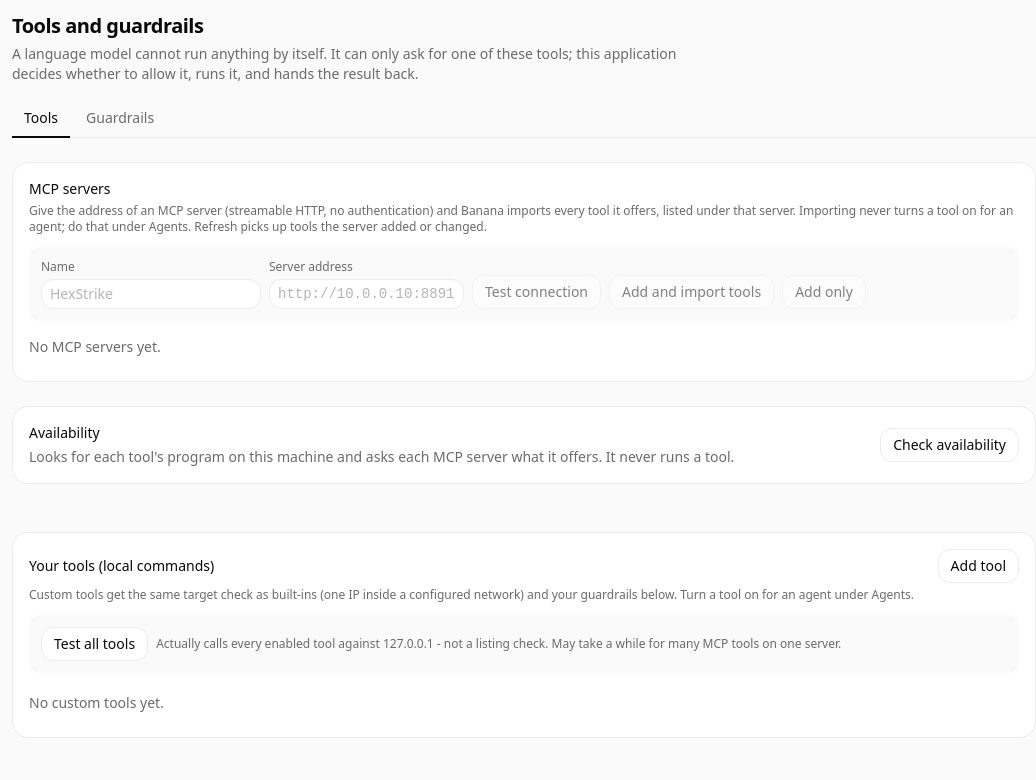
Test case: AiToolsPage tabs › keeps MCP servers and tools on the Tools tab and the guardrails on their own tab
The image size is (1036, 780).
Check: the text "MCP servers" is shown, box [29,179,110,198]
Check: the text "Single IP only" is not shown
Click the tab "Guardrails" at (120, 119), box [74,100,166,138]
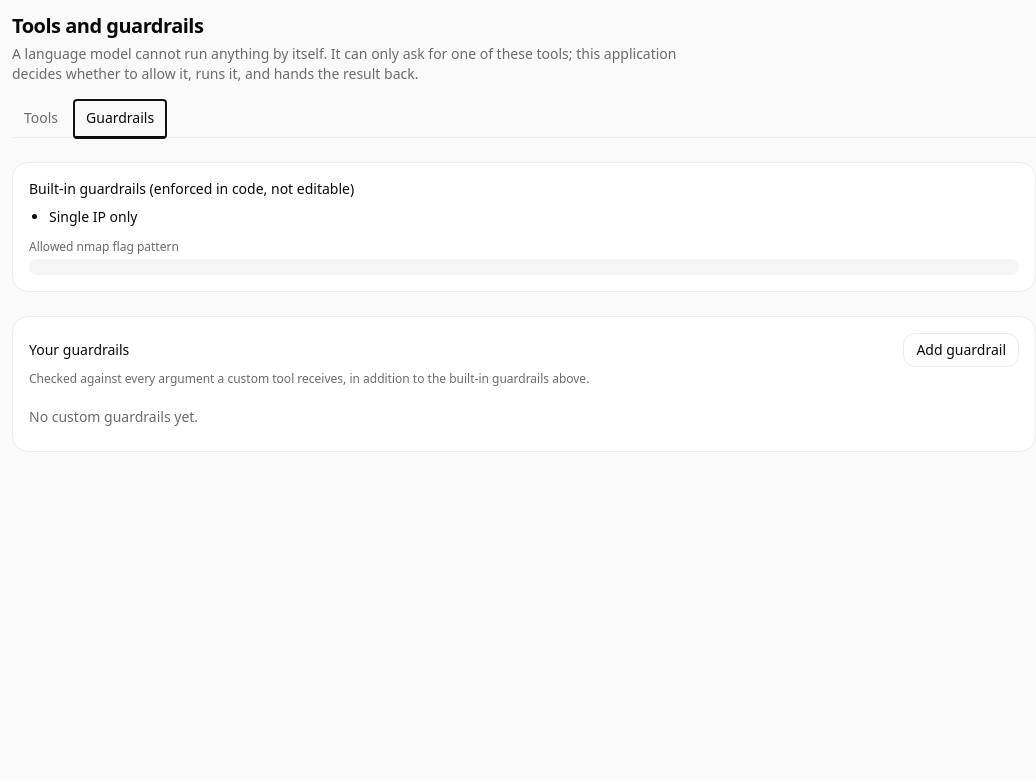
Check: the list item "Single IP only" is shown, box [49,207,138,226]
Check: the text "MCP servers" is gone
